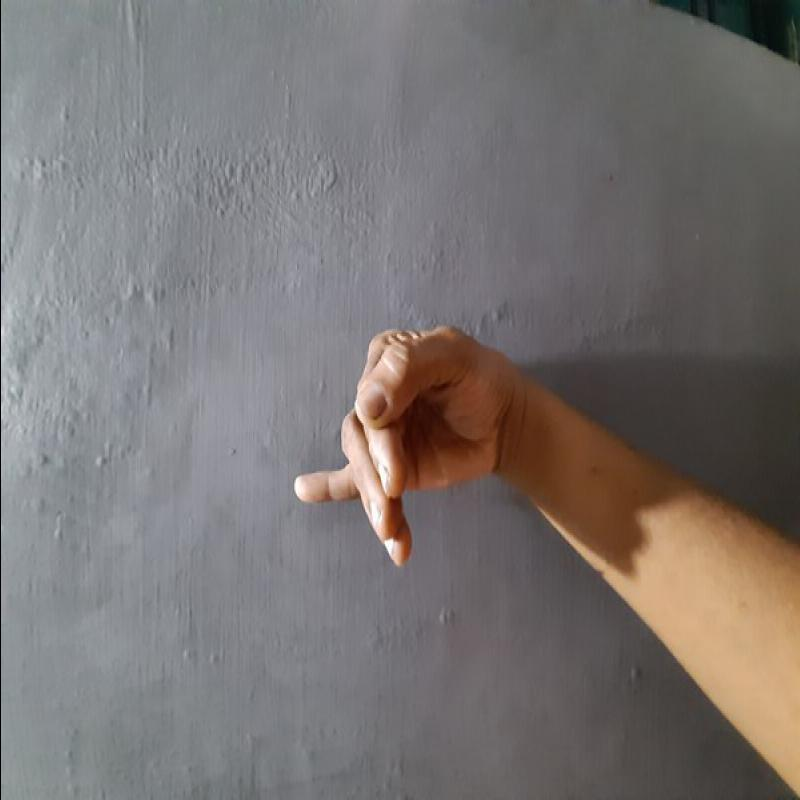Kartharee Mukham: (281, 316, 519, 574)
